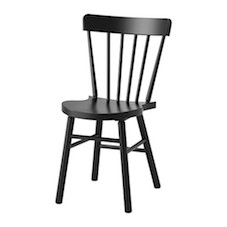chair: (38, 7, 187, 215)
